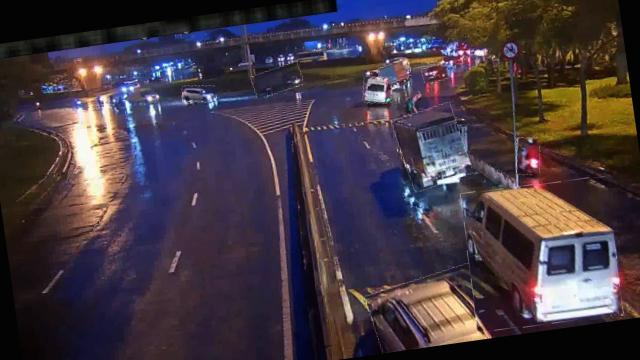Bike: (513, 136, 542, 176)
Bus: (459, 175, 624, 334), (360, 73, 394, 105)
Car: (364, 263, 496, 353), (181, 82, 217, 106), (421, 62, 449, 84)
Truck: (392, 102, 470, 190), (250, 63, 304, 97), (379, 60, 412, 84)
